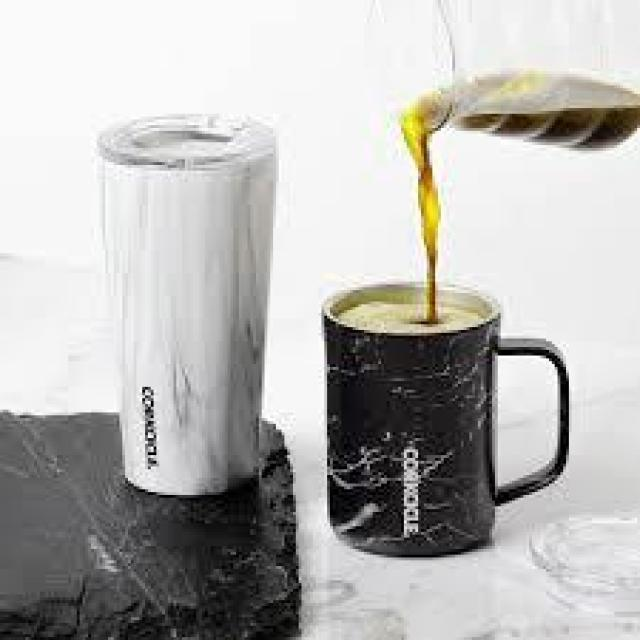bottle: (321, 282, 572, 558), (98, 112, 277, 496)
